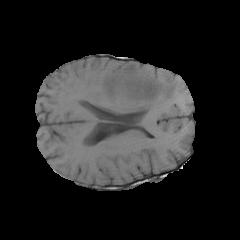glioma: (100, 62, 178, 118)
